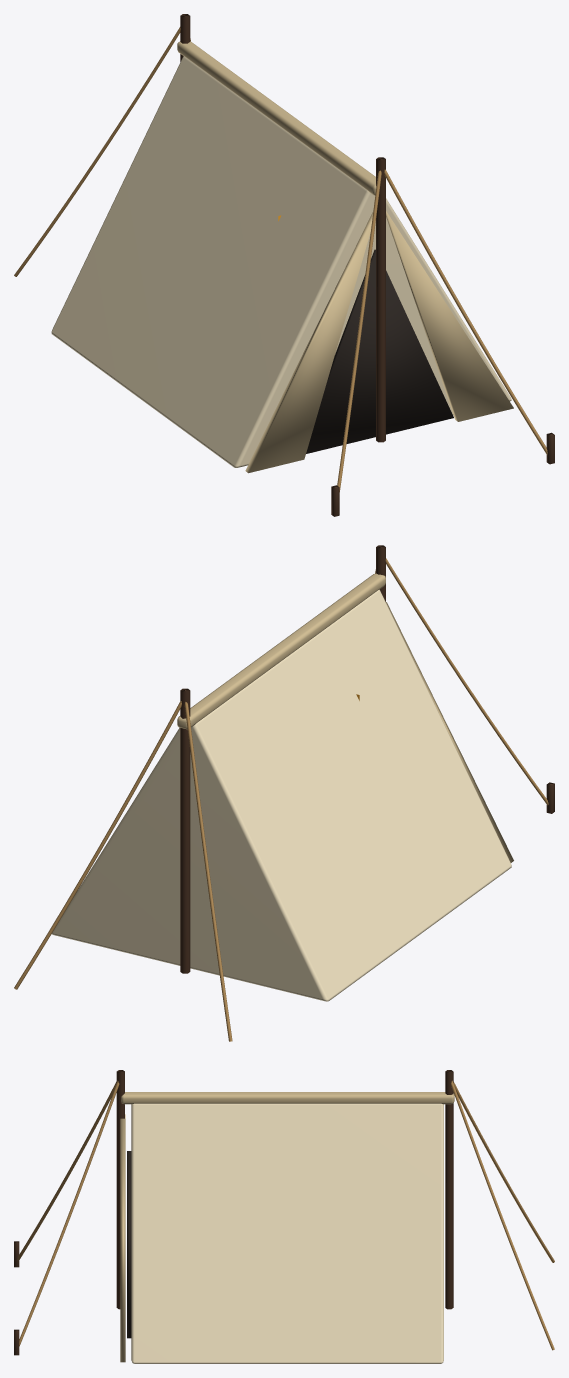
The model's file is jungle_tent.glb.
The picture shows the model from 3 angles, top to bottom: view 1: azimuth 30°, elevation 25°; view 2: azimuth 150°, elevation 25°; view 3: azimuth 270°, elevation 25°; orthographic projection. The views are drawn at different scales.
Visible parts, largest first — view 1: Tent; view 2: Tent; view 3: Tent.
Boxes of the visible parts, left/top/right/bottom form: Tent: left=14, top=14, right=554, bottom=516; Tent: left=14, top=545, right=554, bottom=1041; Tent: left=14, top=1070, right=554, bottom=1363.
Bounding box in the file's own units: 2.58 × 2.52 × 5.19.
